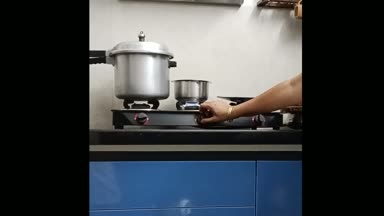flame_gas_off: (122, 97, 160, 125)
flame_gas_on: (175, 99, 209, 123)
